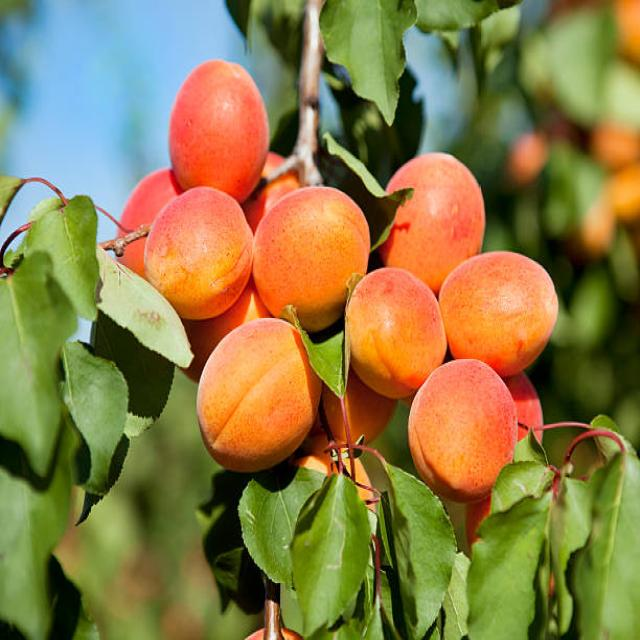kayisi: (118, 64, 560, 477)
kayisi-yapragi: (237, 493, 640, 637), (0, 158, 105, 625)
